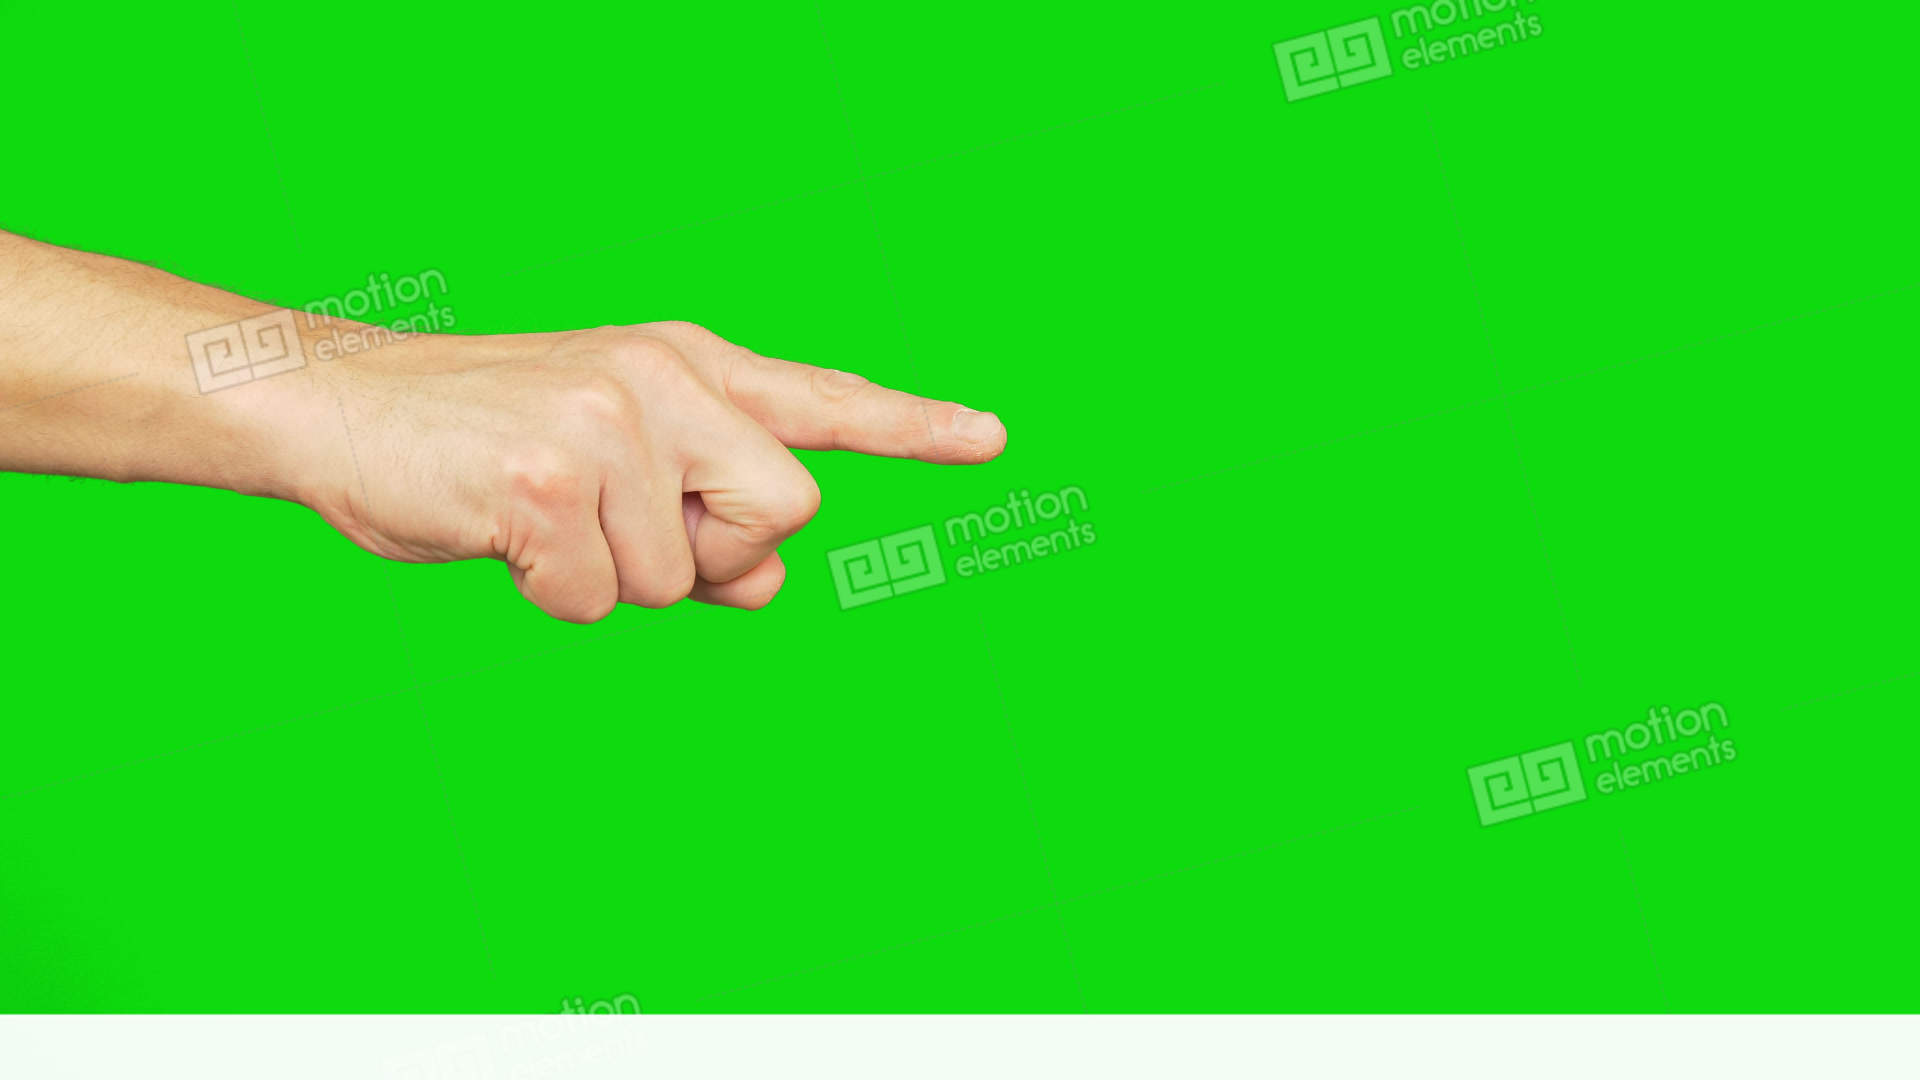move: (338, 306, 1014, 625)
